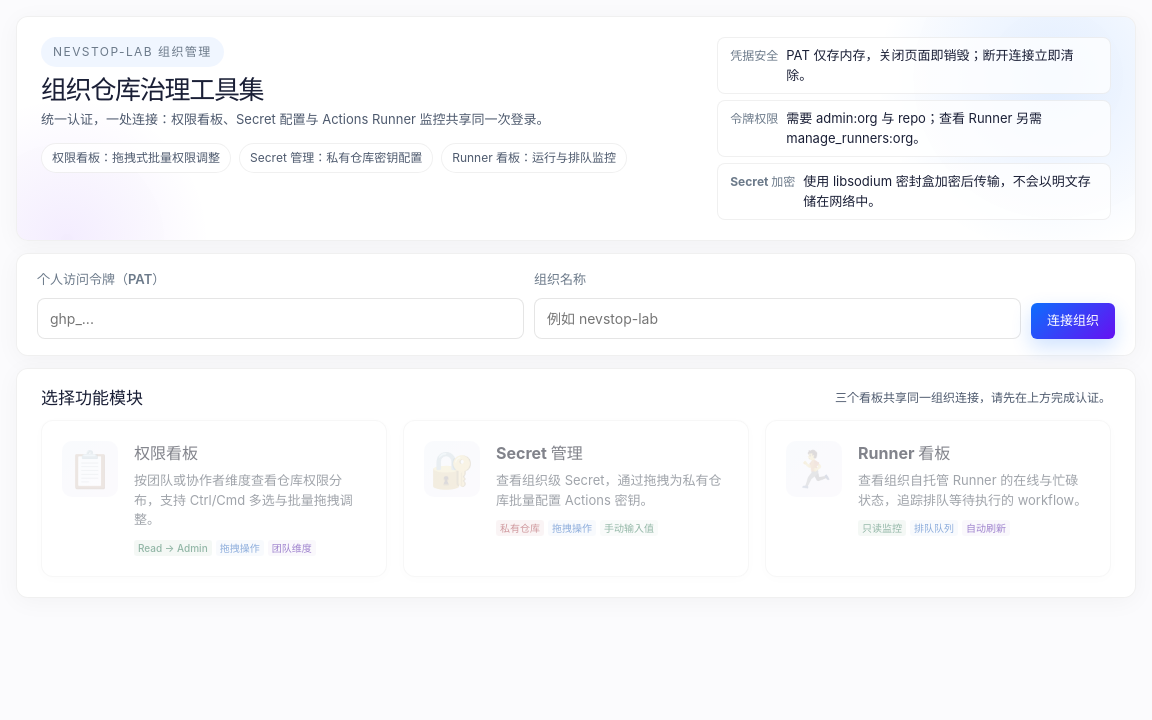
Root › warns when the token is not an org admin
The width and height of the screenshot is (1152, 720).
Type "token-value" into the password field labelled "个人访问令牌（PAT）" at (280, 318), box x1=37 y1=298 x2=524 y2=338
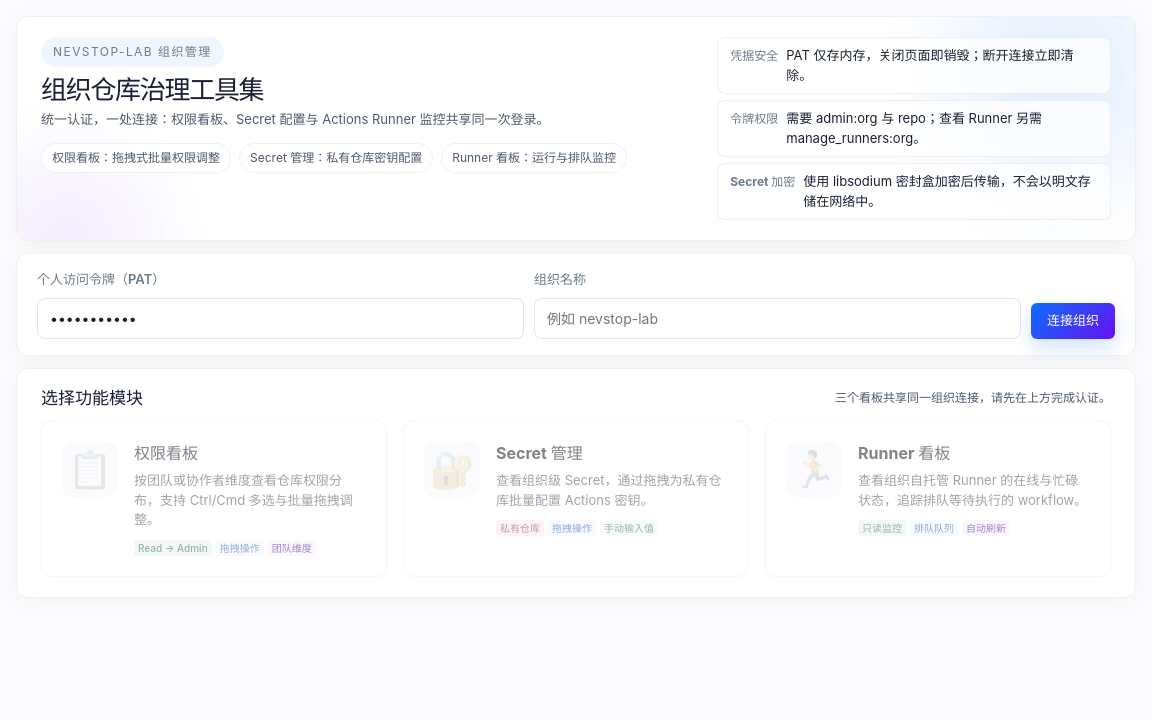
Type "acme" into the field labelled "组织名称" at (778, 318), box x1=534 y1=298 x2=1021 y2=338
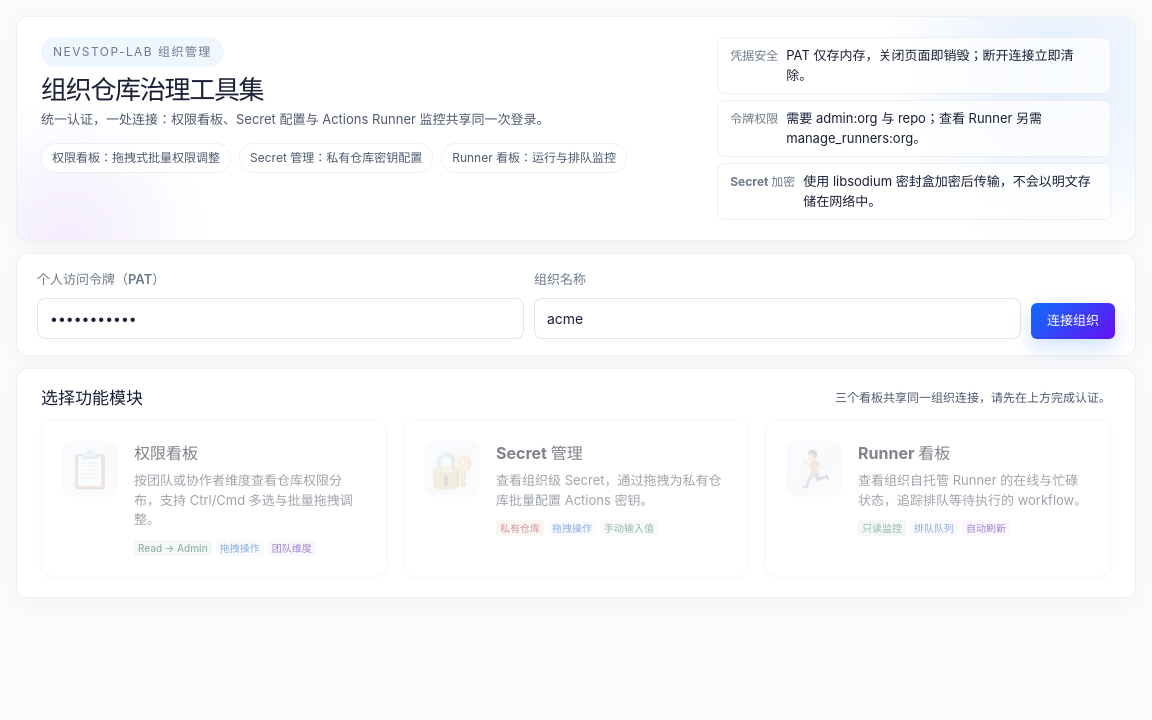
Click the button "连接组织" at (1073, 321), box x1=1031 y1=303 x2=1115 y2=338
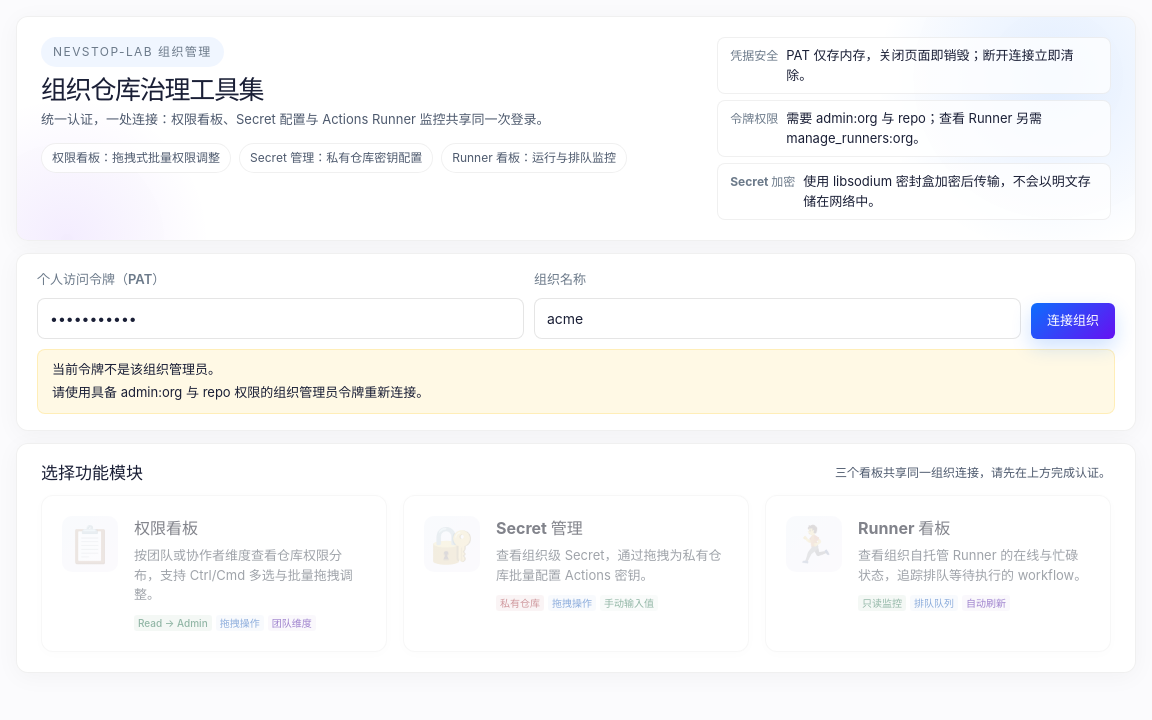
Expected: the button "权限看板" is disabled, x1=41 y1=495 x2=387 y2=652
Result: the text "当前令牌不是该组织管理员。" is shown at x1=52 y1=360 x2=221 y2=376
